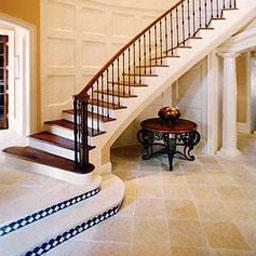Escaleras: (7, 3, 236, 174), (2, 172, 122, 253)
